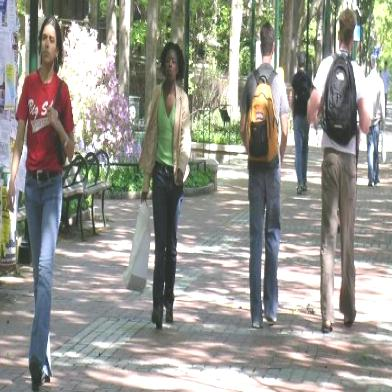ped: (9, 16, 75, 392), (308, 9, 371, 331), (240, 23, 290, 327), (141, 43, 192, 330), (289, 53, 314, 192), (367, 53, 386, 186)
